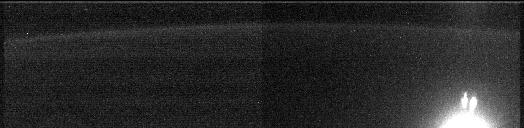positive: (456, 90, 479, 116)
